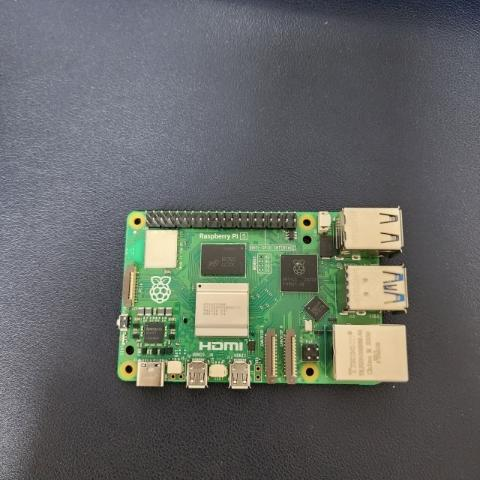Raspberry Pi 5: (113, 202, 411, 396)
